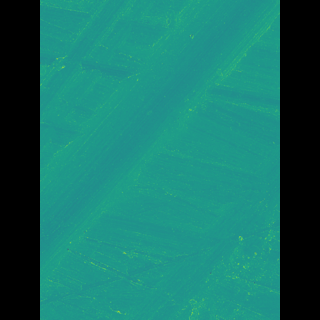Loch: (69, 3, 251, 275), (136, 133, 250, 320), (195, 194, 248, 303)
